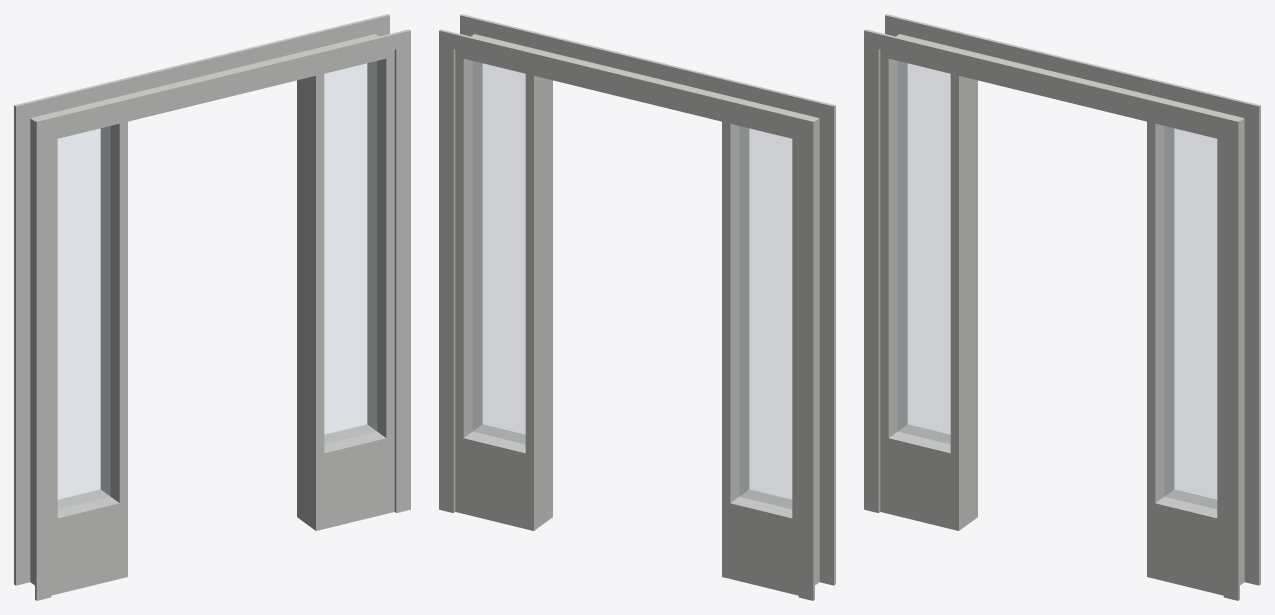
Rendered from mlo_door_frame_sidelights_white.glb.
3 renders of one model, left to right at view 1: azimuth 30°, elevation 25°; view 2: azimuth 150°, elevation 25°; view 3: azimuth 330°, elevation 25°, orthographic.
Parts seen in each view (by area): view 1: Door_Frame_Sidelights_White; view 2: Door_Frame_Sidelights_White; view 3: Door_Frame_Sidelights_White.
Boxes of the visible parts, x1,y1,x2,y2 form: Door_Frame_Sidelights_White: [14, 14, 410, 600]; Door_Frame_Sidelights_White: [439, 14, 835, 600]; Door_Frame_Sidelights_White: [864, 14, 1260, 600].
Bounding box in the file's own units: 1.81 × 2.21 × 0.19.
